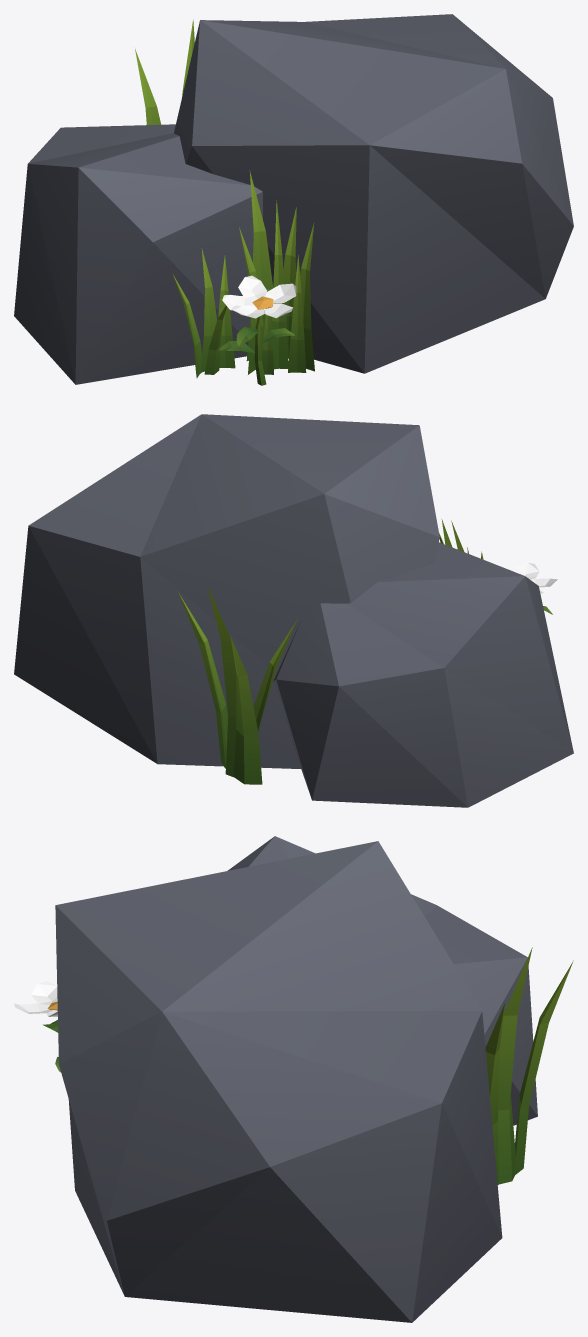
The model's file is Rock_04.fbx.
3 views of the same model, one above another, from view 1: azimuth 30°, elevation 25°; view 2: azimuth 150°, elevation 25°; view 3: azimuth 270°, elevation 25° (orthographic). The views are drawn at different scales.
Visible parts, largest first — view 1: Rock_04; view 2: Rock_04; view 3: Rock_04.
Part boxes in pixels (<box>): Rock_04: <box>14,14,573,385</box>; Rock_04: <box>14,414,573,807</box>; Rock_04: <box>14,836,573,1322</box>.
Size of the model in its own units: 1.18 by 0.6149 by 0.9541.
